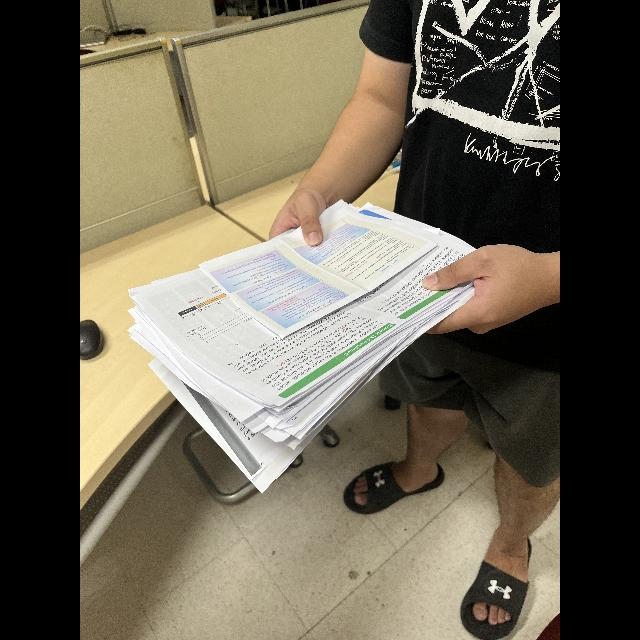reuseable_paper: (130, 190, 494, 492)
